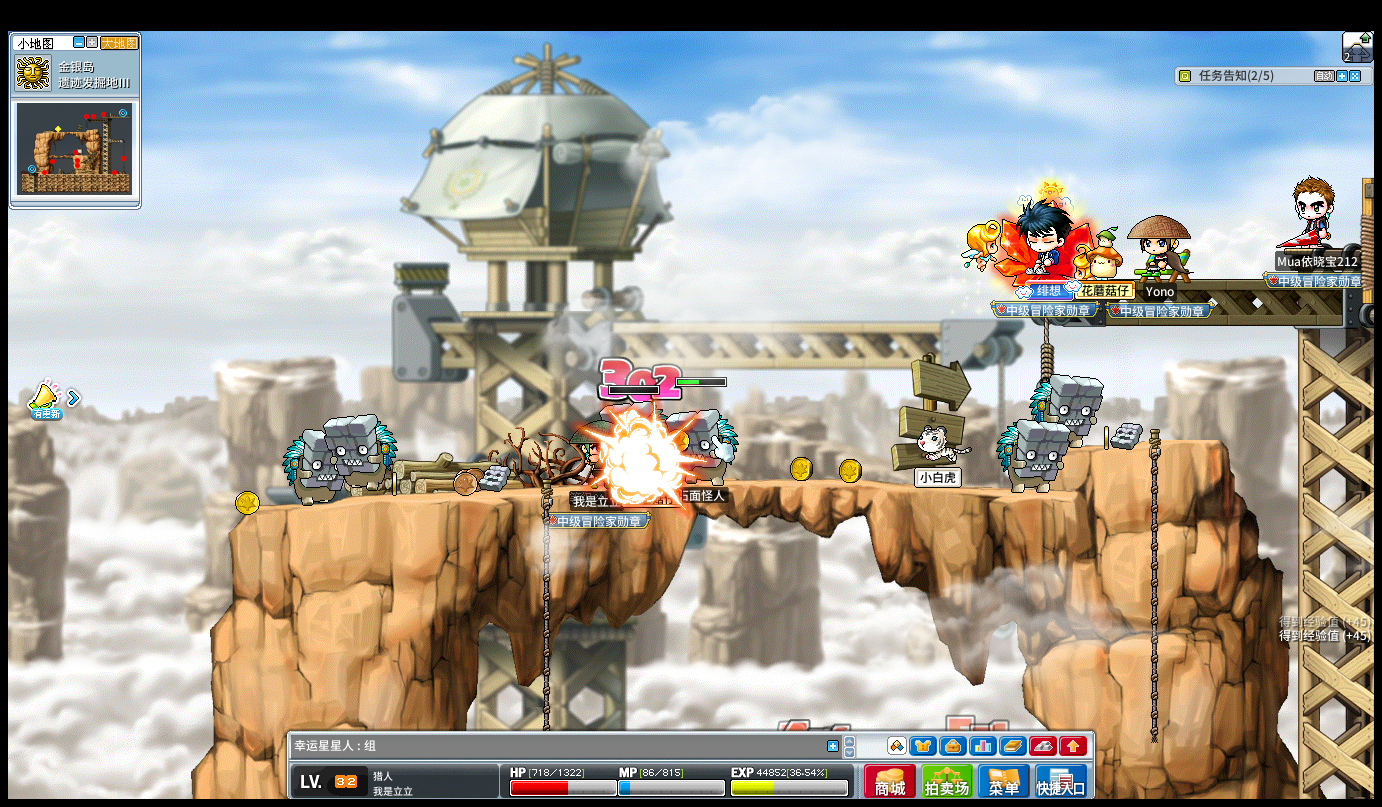floor: (233, 478, 1180, 505), (232, 476, 1159, 498), (1079, 435, 1225, 452)
monster: (327, 413, 398, 499), (996, 419, 1067, 495), (1042, 372, 1104, 448), (281, 427, 333, 507), (687, 410, 739, 482)
rope: (1145, 427, 1161, 746), (539, 474, 551, 798), (539, 478, 551, 699)
